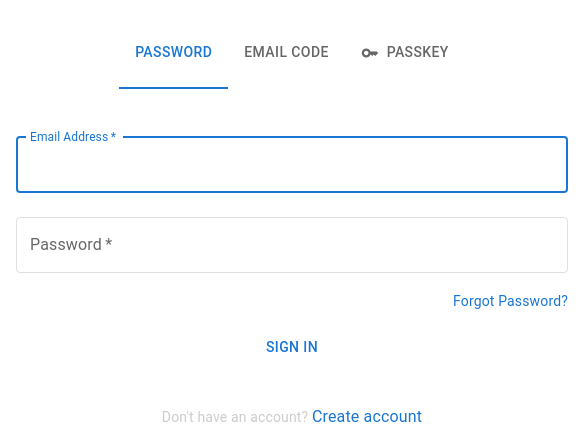
LoginPage › Tab Navigation › switches to OTP tab when clicked
The image size is (585, 439).
Click the tab "Email Code". click: click(287, 53)
box: x1=228 y1=17 x2=345 y2=89
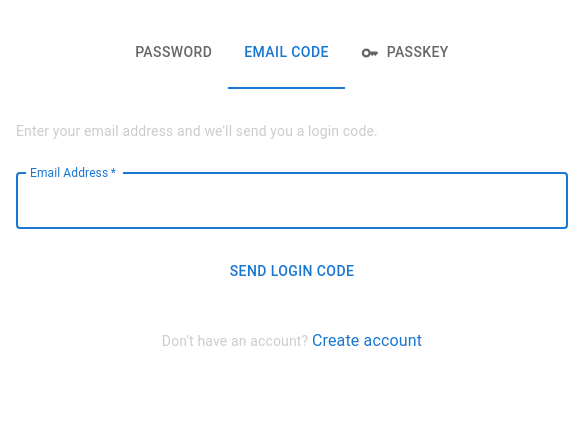
Now the text "Enter your email address and we'll send you a login code." is shown, box x1=16 y1=123 x2=378 y2=139
